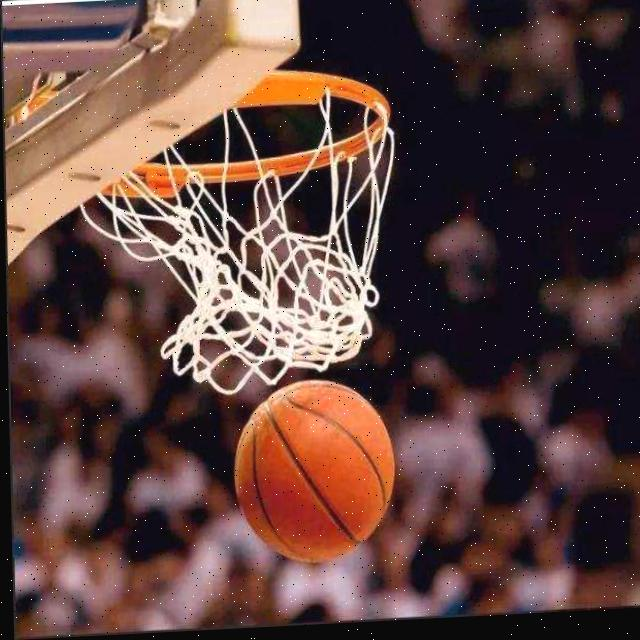basketball: (235, 376, 396, 569)
hoop: (97, 60, 395, 395)
